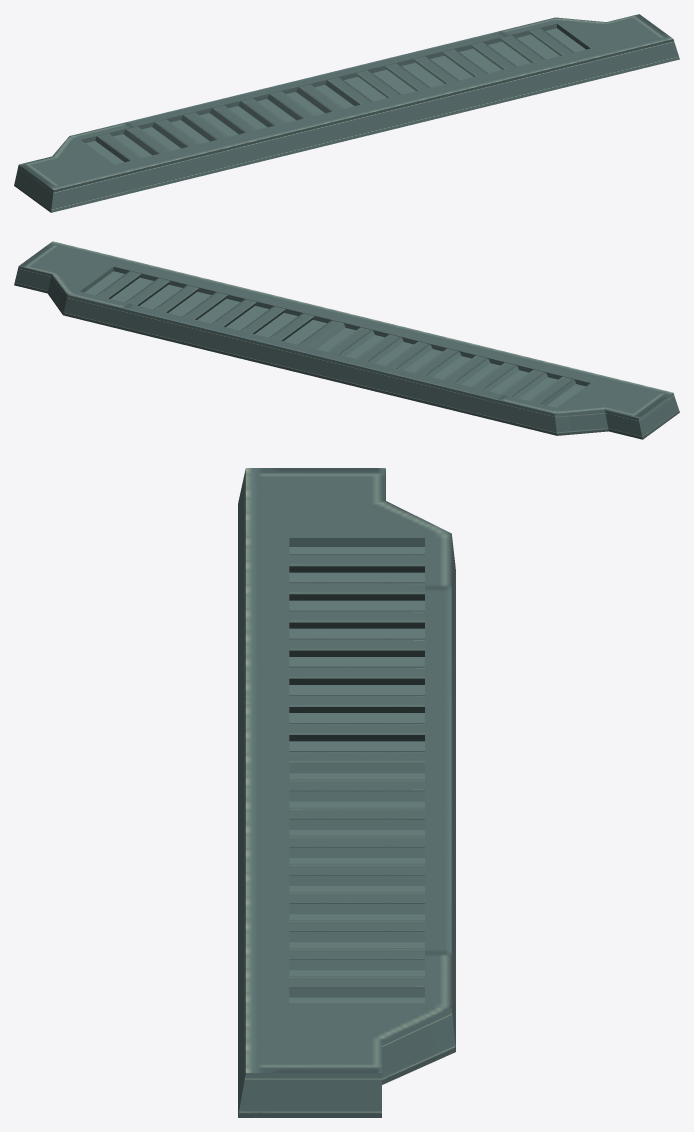
File: Louvers.gltf
3 renders of one model, top to bottom at view 1: azimuth 30°, elevation 25°; view 2: azimuth 150°, elevation 25°; view 3: azimuth 270°, elevation 25°, orthographic. The views are drawn at different scales.
Visible parts, largest first — view 1: Prop_Vent_Wide; view 2: Prop_Vent_Wide; view 3: Prop_Vent_Wide.
Part boxes in pixels (<box>): Prop_Vent_Wide: <box>14,14,679,212</box>; Prop_Vent_Wide: <box>14,241,679,439</box>; Prop_Vent_Wide: <box>238,468,455,1117</box>.
Size of the model in its own units: 1.94 by 0.0595 by 0.291.
Materials: 3 (2 with a texture image).
